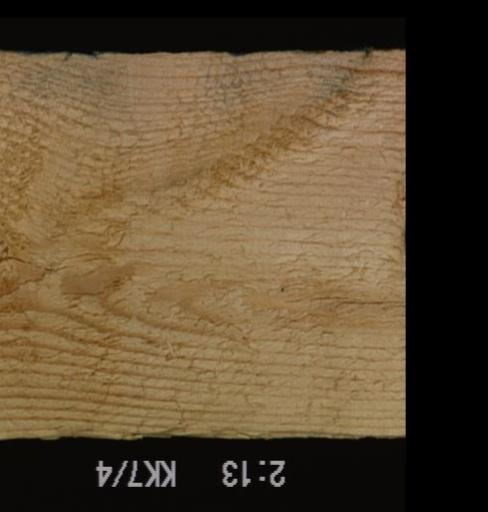split: (271, 284, 403, 307)
